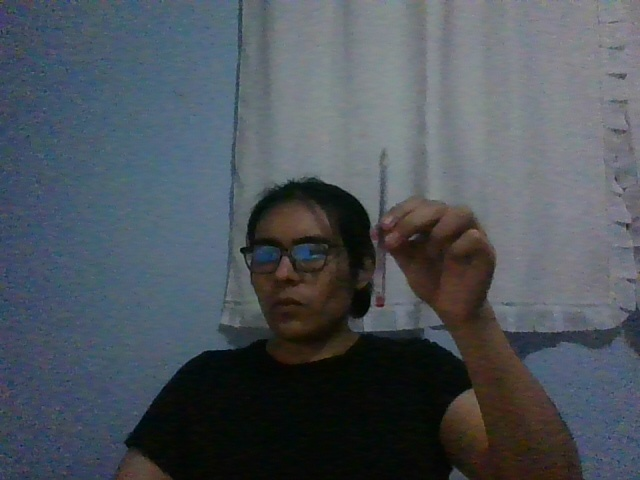pluma: (374, 147, 387, 308)
